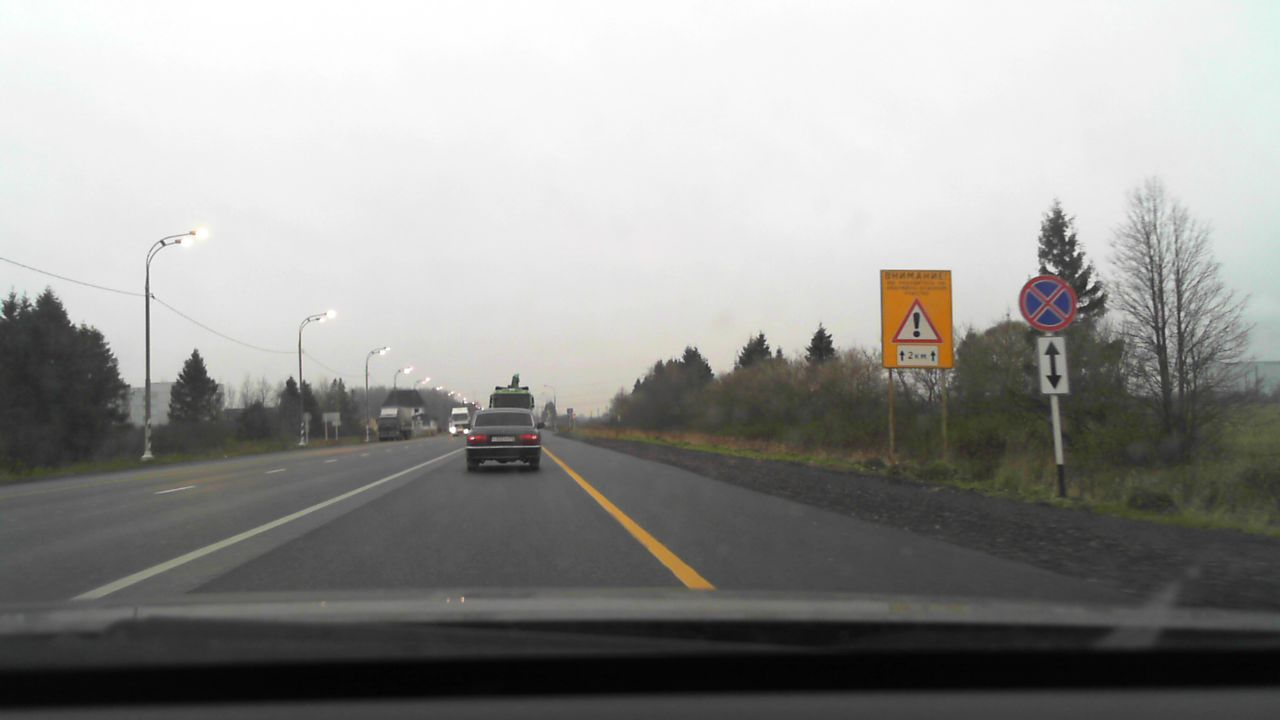No Parking: (1018, 274, 1077, 332)
